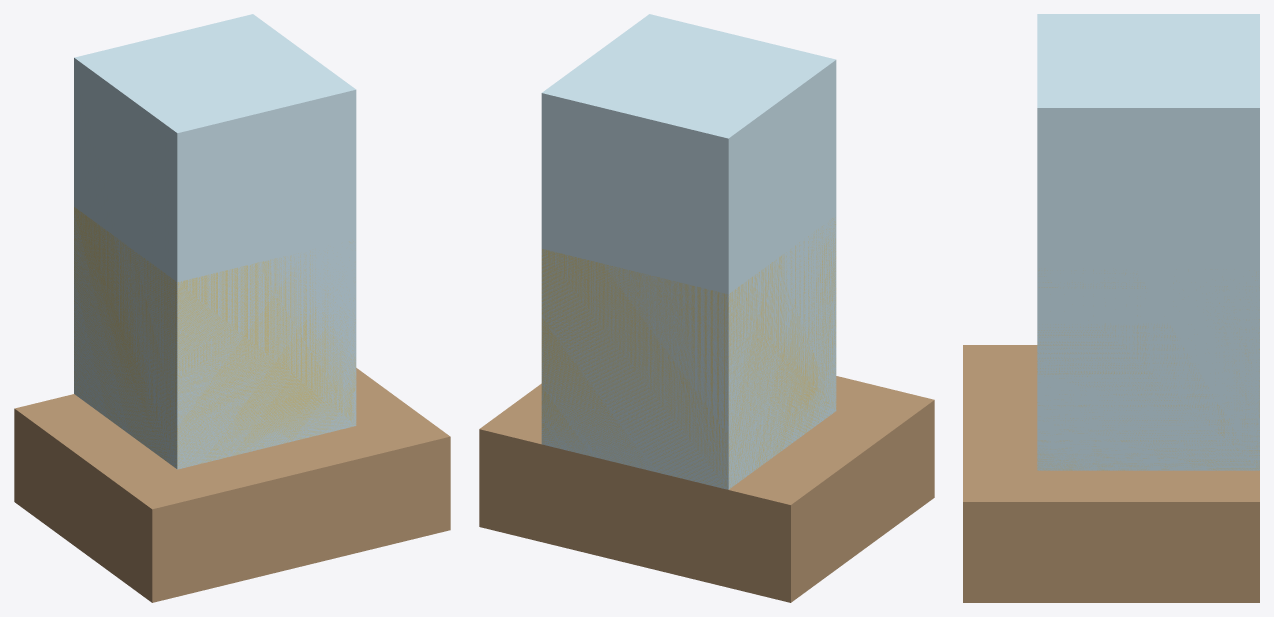
The model's file is Prop_Pet_AMF_Feeder_V6.glb.
3 renders of one model, left to right at view 1: azimuth 30°, elevation 25°; view 2: azimuth 150°, elevation 25°; view 3: azimuth 270°, elevation 25°, orthographic. The views are drawn at different scales.
Visible parts, largest first — view 1: Prop_Pet_AMF_Feeder_V6; view 2: Prop_Pet_AMF_Feeder_V6; view 3: Prop_Pet_AMF_Feeder_V6.
Part boxes in pixels (x1,y1,x2,y2): Prop_Pet_AMF_Feeder_V6: (14,14,450,602); Prop_Pet_AMF_Feeder_V6: (479,14,934,602); Prop_Pet_AMF_Feeder_V6: (963,14,1259,602).
Bounding box in the file's own units: 0.5 × 0.6888 × 0.4.
